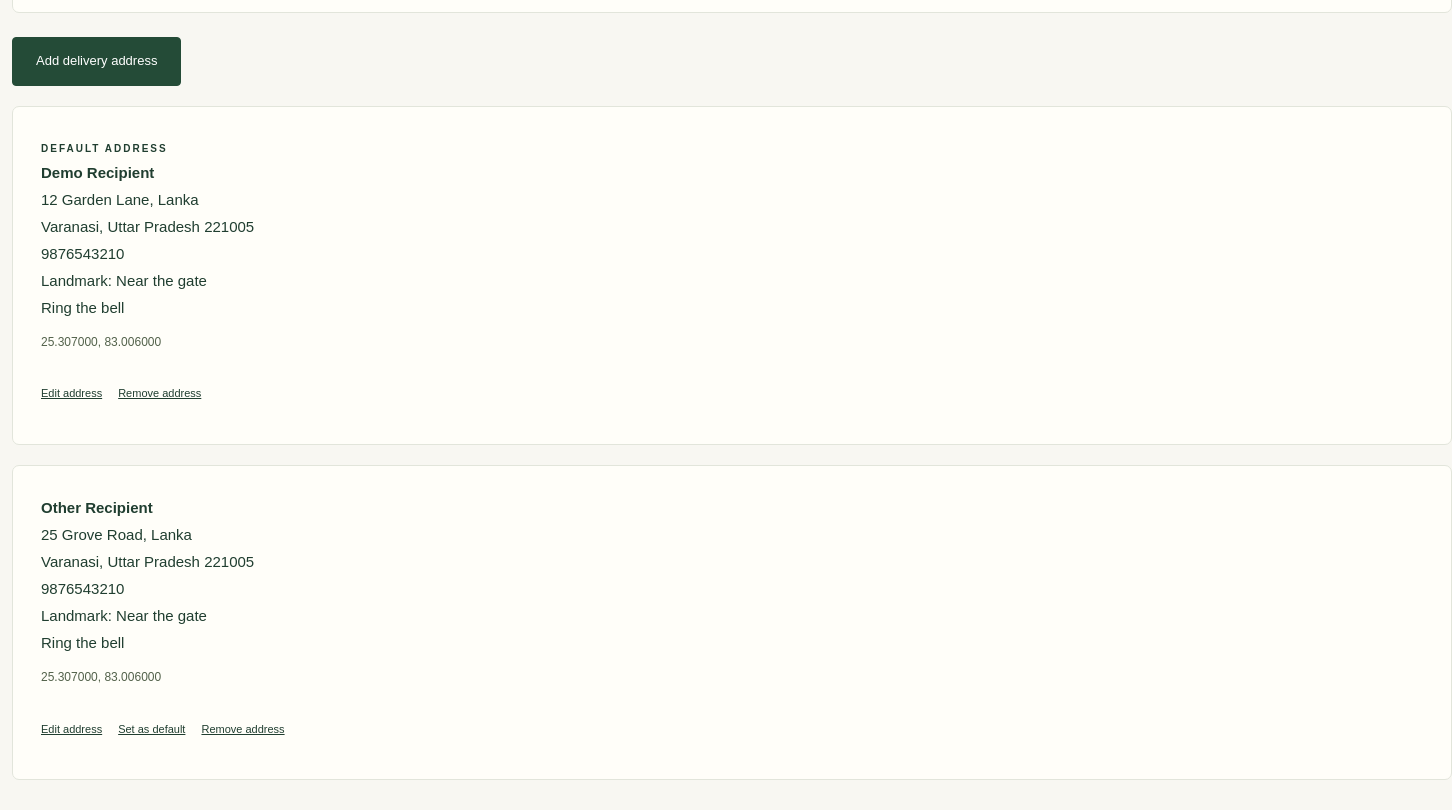
Test case: saved delivery address book › keeps the visible address when deletion is rejected
The width and height of the screenshot is (1452, 810).
(page scrolled)
Expected: the text "Demo Recipient" is shown, [41,164,154,181]
Click the button "Remove address" below "25 Grove Road" at (243, 730), box [201,708,285,752]
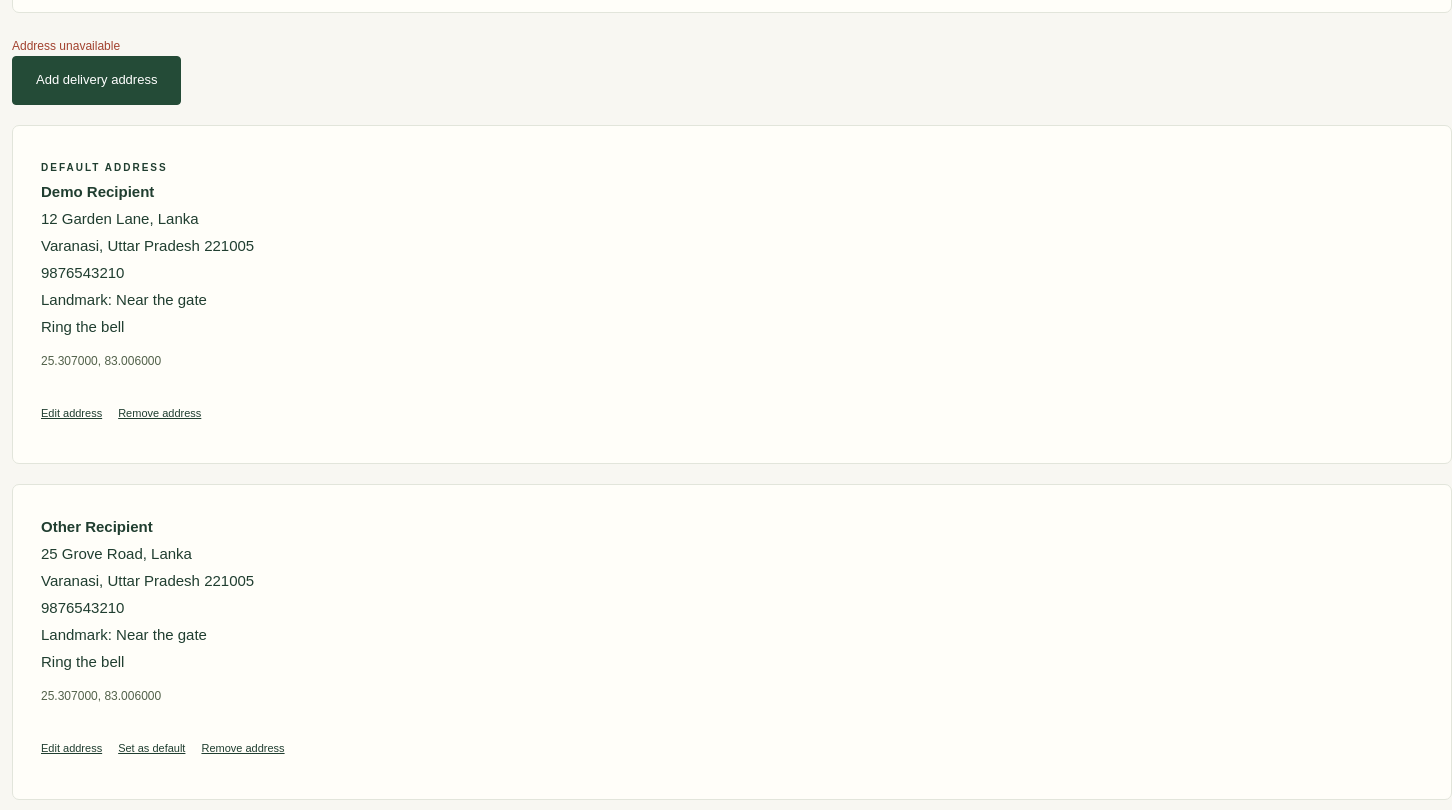
Expected: the text "Other Recipient" is shown, [41,518,153,536]
Now the message reads "Address unavailable", box [12,39,120,53]
